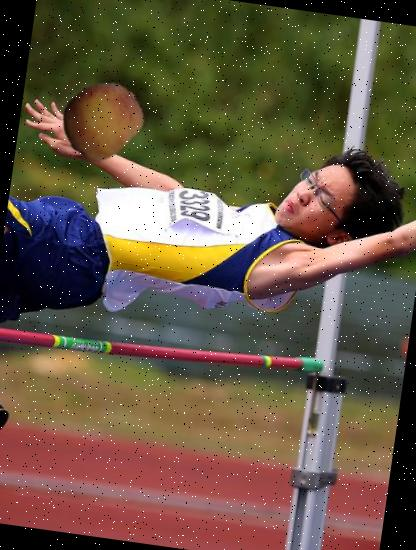Peach: (55, 73, 148, 166)
